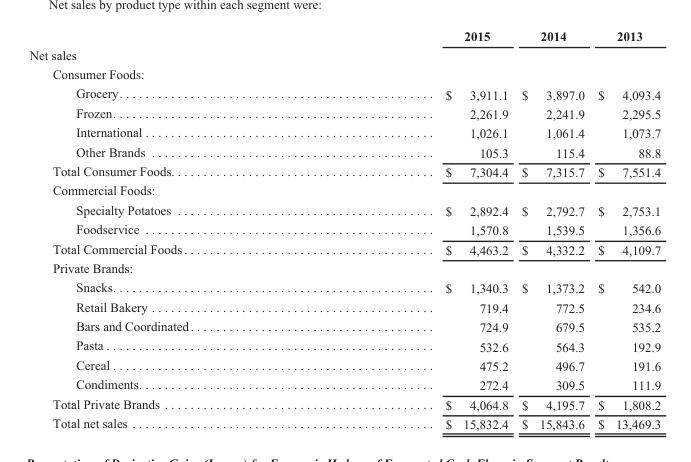table: (28, 28, 660, 430)
table column: (28, 28, 318, 430), (318, 28, 514, 430), (514, 28, 590, 430), (590, 28, 660, 430)
table column header: (28, 28, 660, 45)
table projected row header: (28, 45, 660, 64), (28, 64, 660, 83), (28, 180, 660, 199), (28, 258, 660, 277)
table row: (28, 83, 660, 103), (28, 122, 660, 142), (28, 199, 660, 219), (28, 219, 660, 239), (28, 277, 660, 297), (28, 316, 660, 336), (28, 374, 660, 394), (28, 45, 660, 64), (28, 64, 660, 83), (28, 103, 660, 122), (28, 142, 660, 161), (28, 161, 660, 180), (28, 180, 660, 199), (28, 239, 660, 258), (28, 258, 660, 277), (28, 297, 660, 316), (28, 336, 660, 355), (28, 355, 660, 374), (28, 394, 660, 413), (28, 28, 660, 45), (28, 413, 660, 430)
